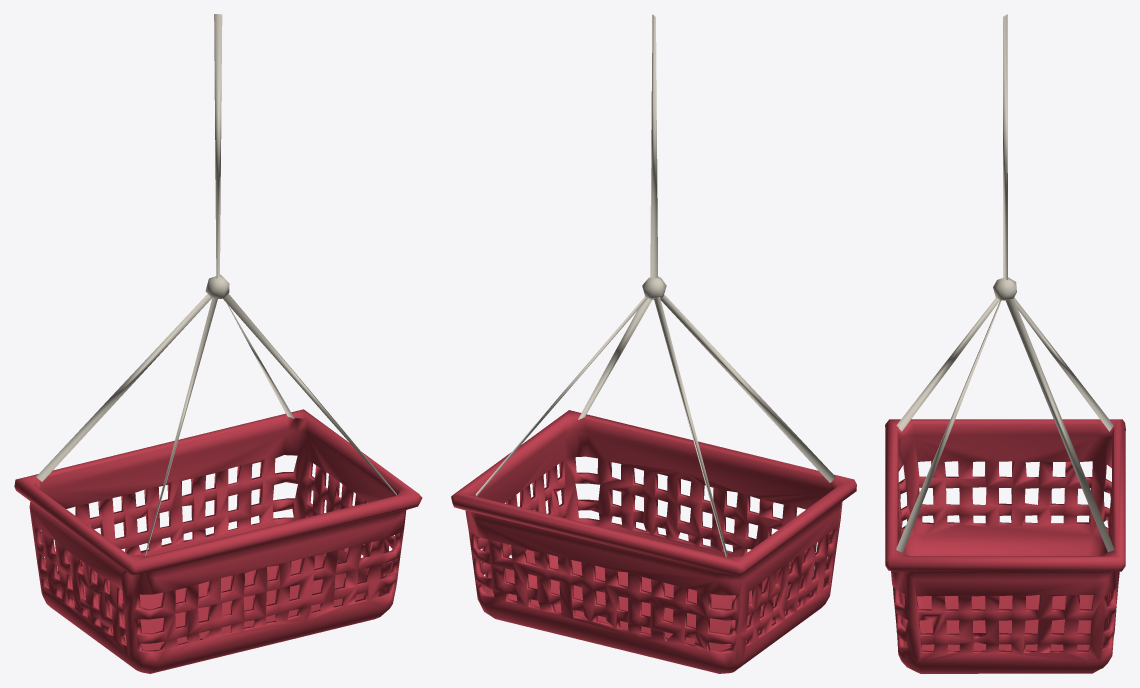
Rendered from gio_rong.glb.
The picture shows the model from 3 angles, left to right: view 1: azimuth 30°, elevation 25°; view 2: azimuth 150°, elevation 25°; view 3: azimuth 270°, elevation 25°; orthographic projection.
Visible parts, largest first — view 1: gio_rong; view 2: gio_rong; view 3: gio_rong.
Boxes of the visible parts, box(x1,y1,x2,y2) form: gio_rong: box(14, 14, 422, 673); gio_rong: box(451, 14, 856, 673); gio_rong: box(885, 14, 1125, 673).
Size of the model in its own units: 0.3375 by 0.66 by 0.2388.
